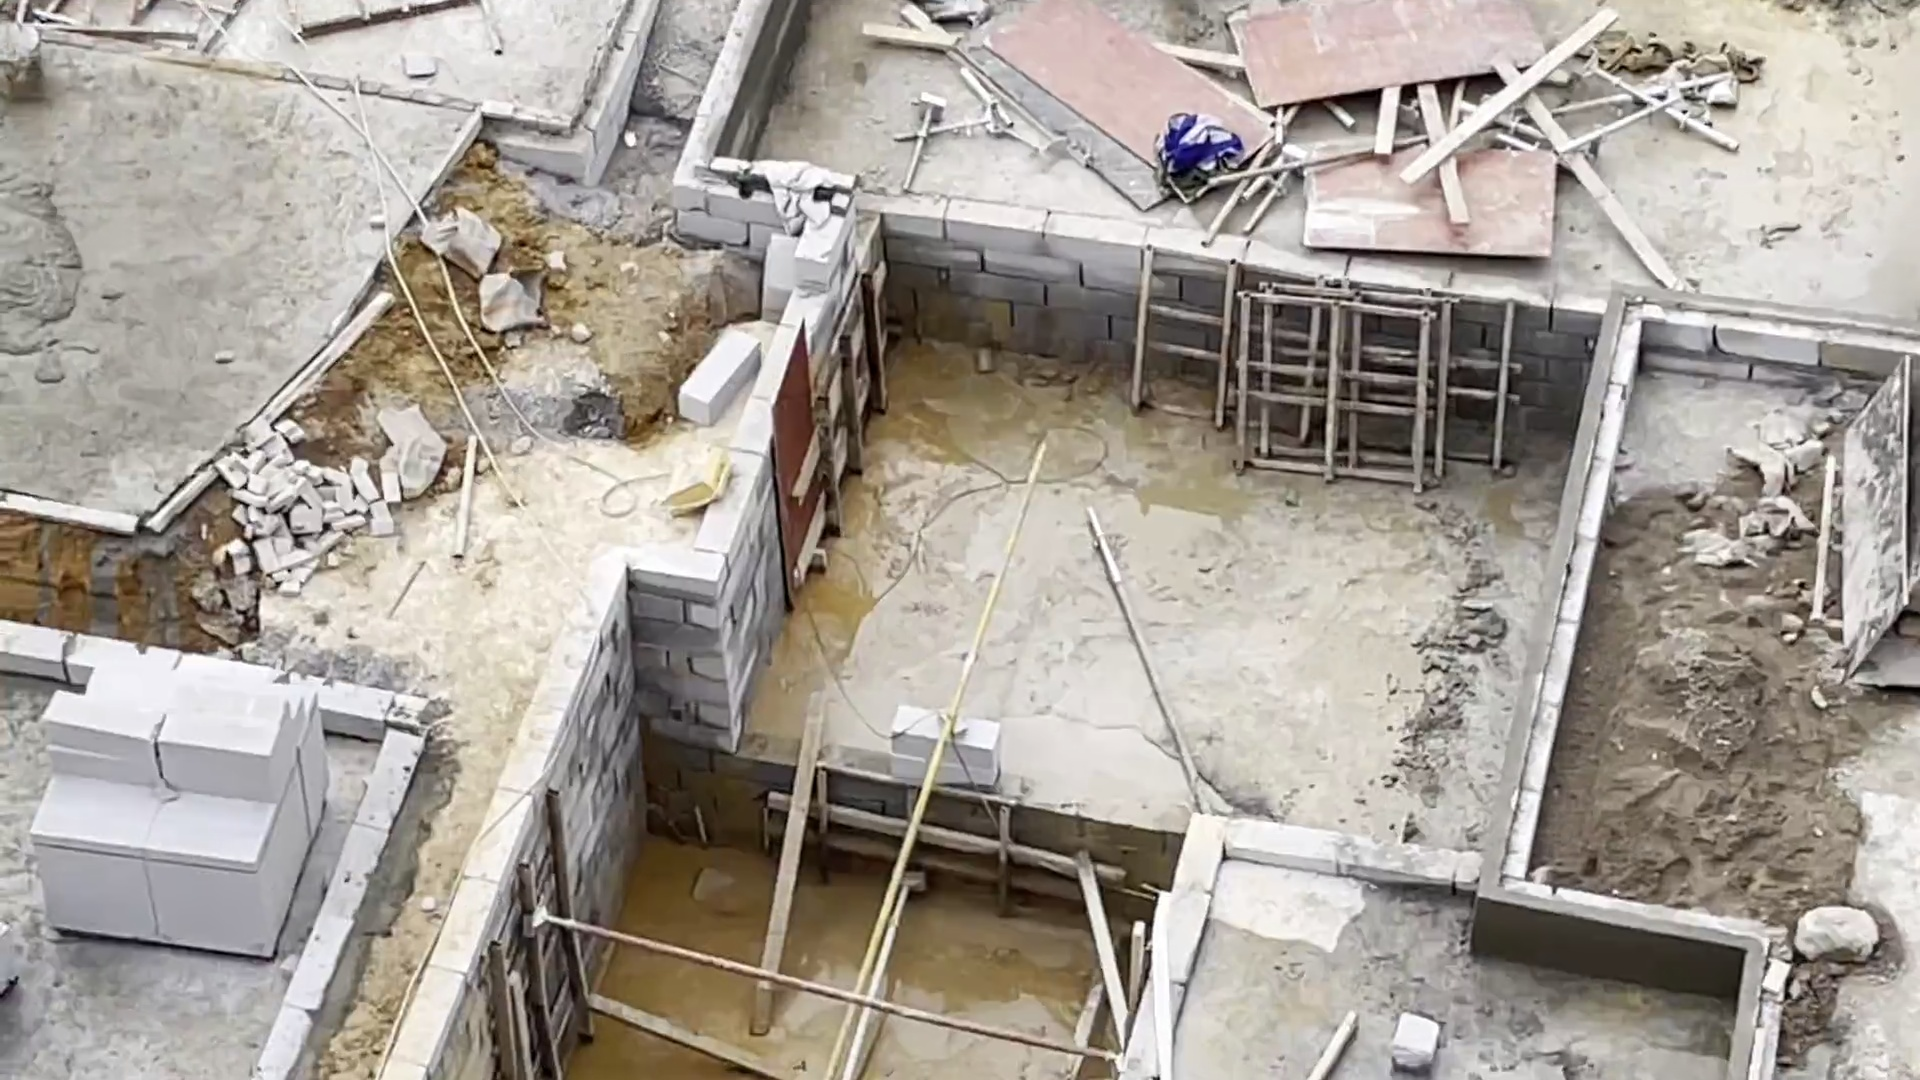brick: (17, 654, 324, 956)
